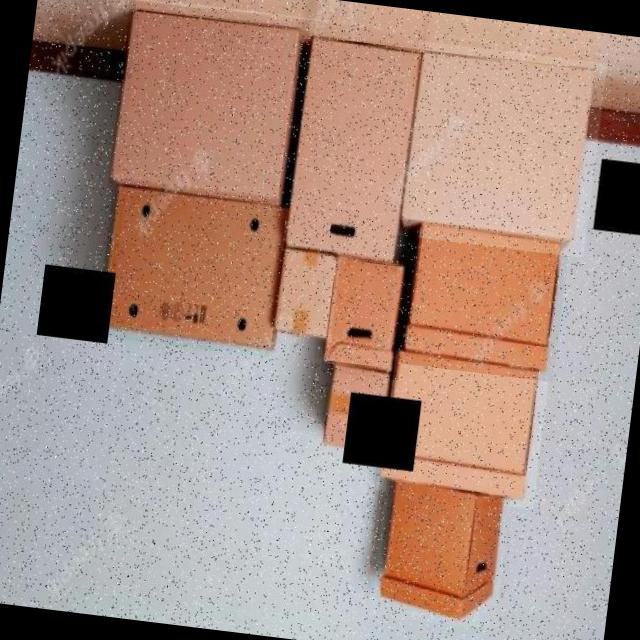box: (395, 39, 607, 258), (107, 0, 306, 209), (93, 173, 294, 358), (281, 37, 424, 265), (394, 216, 570, 382), (376, 347, 550, 509), (368, 480, 511, 630), (320, 248, 412, 380), (304, 354, 387, 476), (266, 250, 340, 342)
